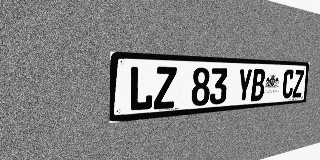3: (209, 68, 228, 105)
8: (191, 67, 211, 106)
B: (251, 69, 266, 101)
C: (282, 69, 295, 99)
L: (128, 66, 154, 112)
Y: (236, 68, 253, 103)
Z: (153, 66, 177, 110), (292, 70, 304, 98)
